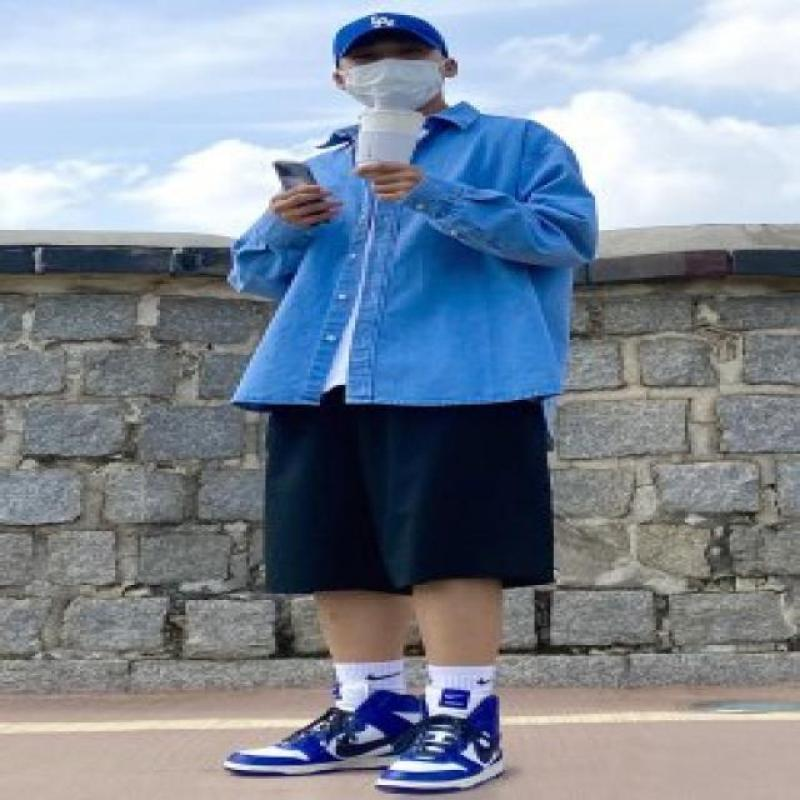Shorts: (261, 399, 559, 596)
long sleeve shirt: (227, 100, 601, 409)
